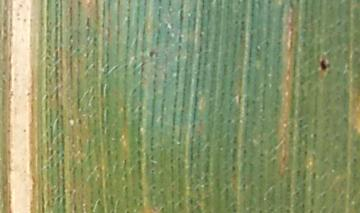tarspot: (319, 58, 328, 72), (85, 16, 92, 28), (130, 87, 138, 96), (232, 134, 238, 145), (311, 132, 319, 140), (250, 98, 257, 107), (311, 170, 317, 180), (335, 20, 343, 27), (105, 149, 112, 157), (188, 197, 195, 205), (239, 11, 246, 19), (302, 149, 309, 157), (91, 41, 98, 49), (263, 40, 270, 48), (148, 50, 154, 59), (226, 118, 233, 125), (5, 128, 12, 135), (77, 117, 83, 125), (230, 164, 236, 172), (241, 148, 247, 156), (150, 184, 157, 190), (190, 123, 197, 129), (194, 186, 200, 193), (107, 172, 113, 179), (25, 91, 31, 98), (22, 127, 28, 134), (17, 2, 24, 8), (240, 19, 246, 26), (288, 26, 295, 32), (167, 1, 173, 7), (233, 19, 239, 25), (351, 157, 357, 163), (22, 17, 27, 24), (198, 31, 203, 38), (68, 34, 73, 41), (54, 2, 59, 8), (92, 36, 97, 42), (266, 1, 271, 5), (295, 1, 301, 4)
